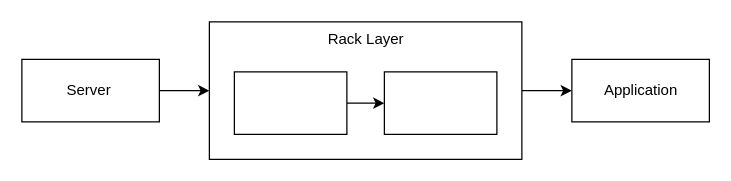
Some shapes in this 731 by 181 pixel diagram are drawn without their labels. The centre of each missing label's shape, as x and y in pixels:
Middleware 1: point 290,102
Middleware 2: point 440,102
